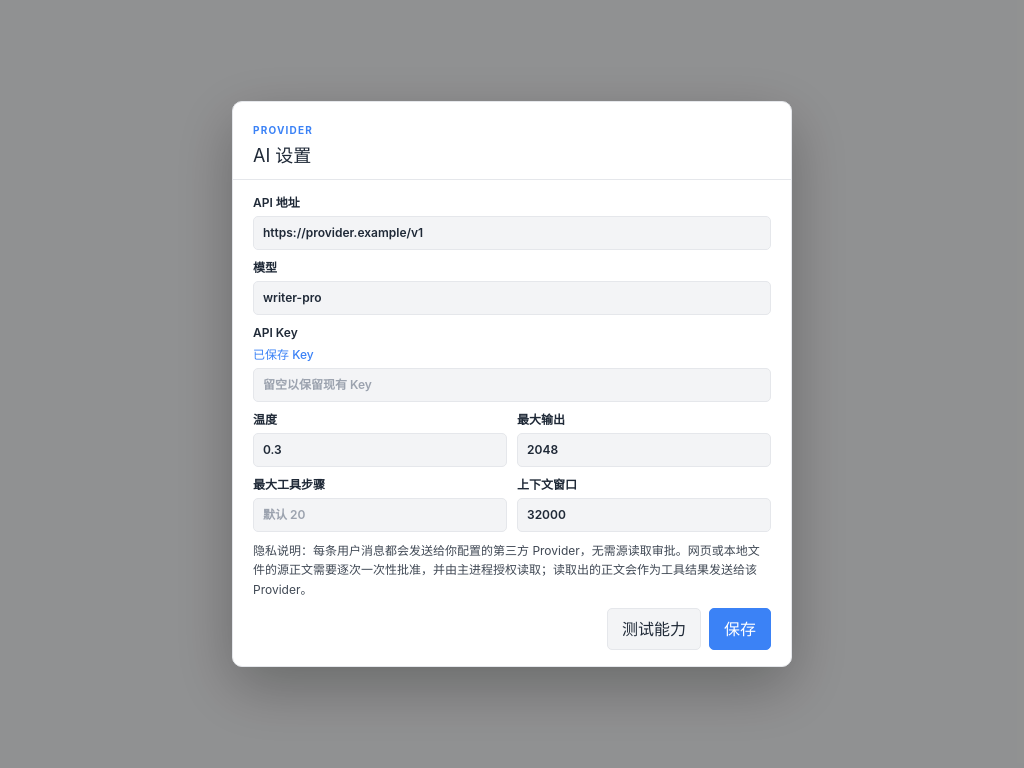
Test case: AI settings › shows text and tool capability results separately and rejects a no-tools model as ready
Click the button with test id "ai-test-config" at (654, 629), box [607,608,701,650]
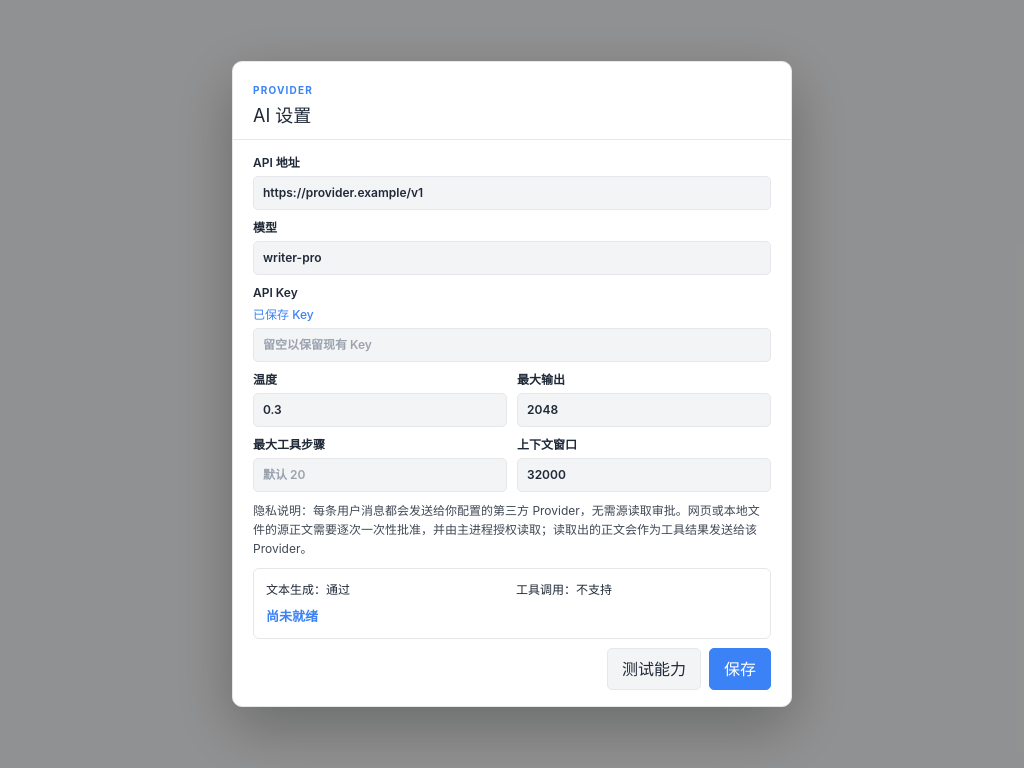
Now the text with test id "text-capability" shows "通过", box [266,582,350,596]
Now the text with test id "tools-capability" shows "不支持", box [516,582,612,596]
Now the text with test id "config-readiness" reads "尚未就绪", box [266,608,318,624]
